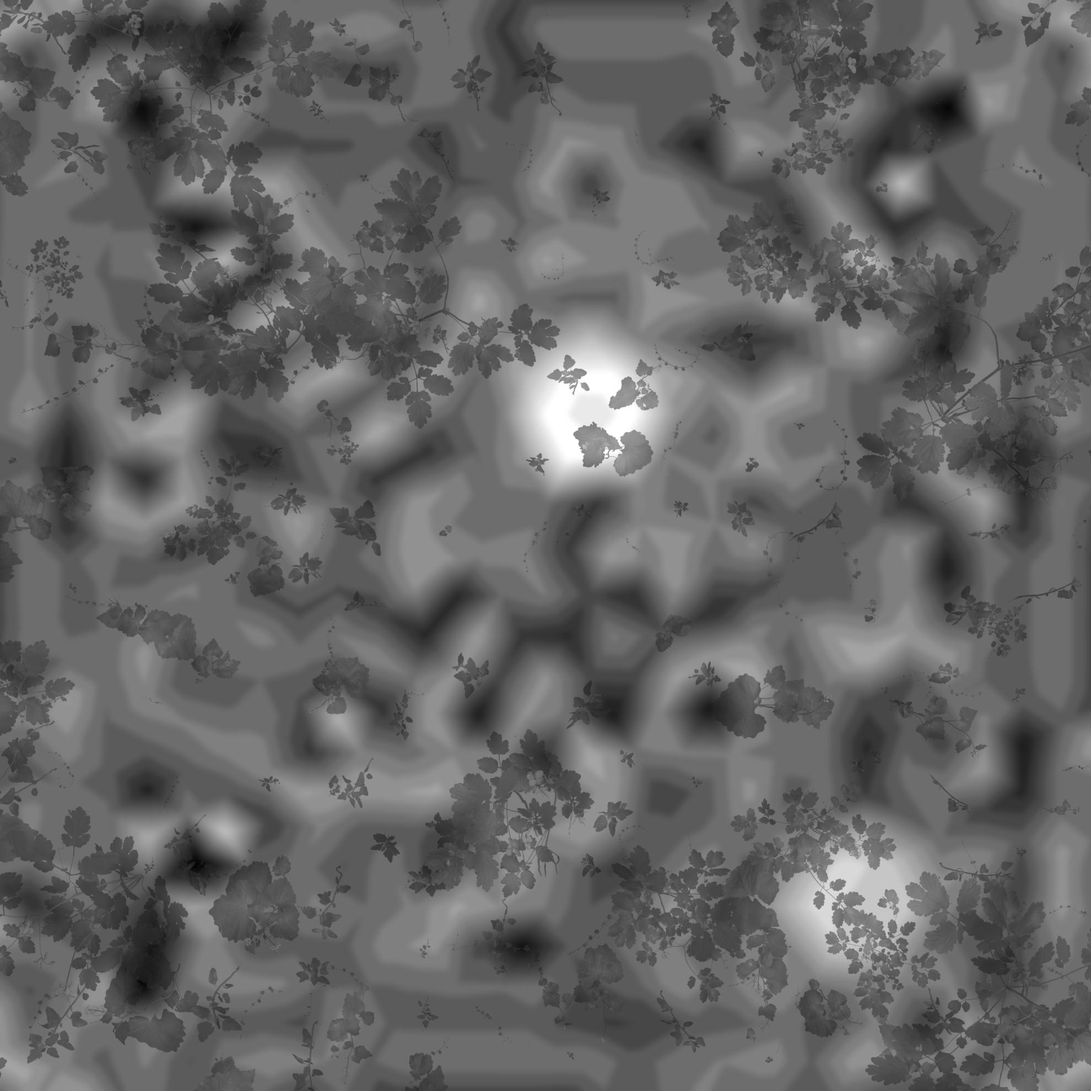landmine: (511, 333, 658, 491), (782, 832, 922, 971)
